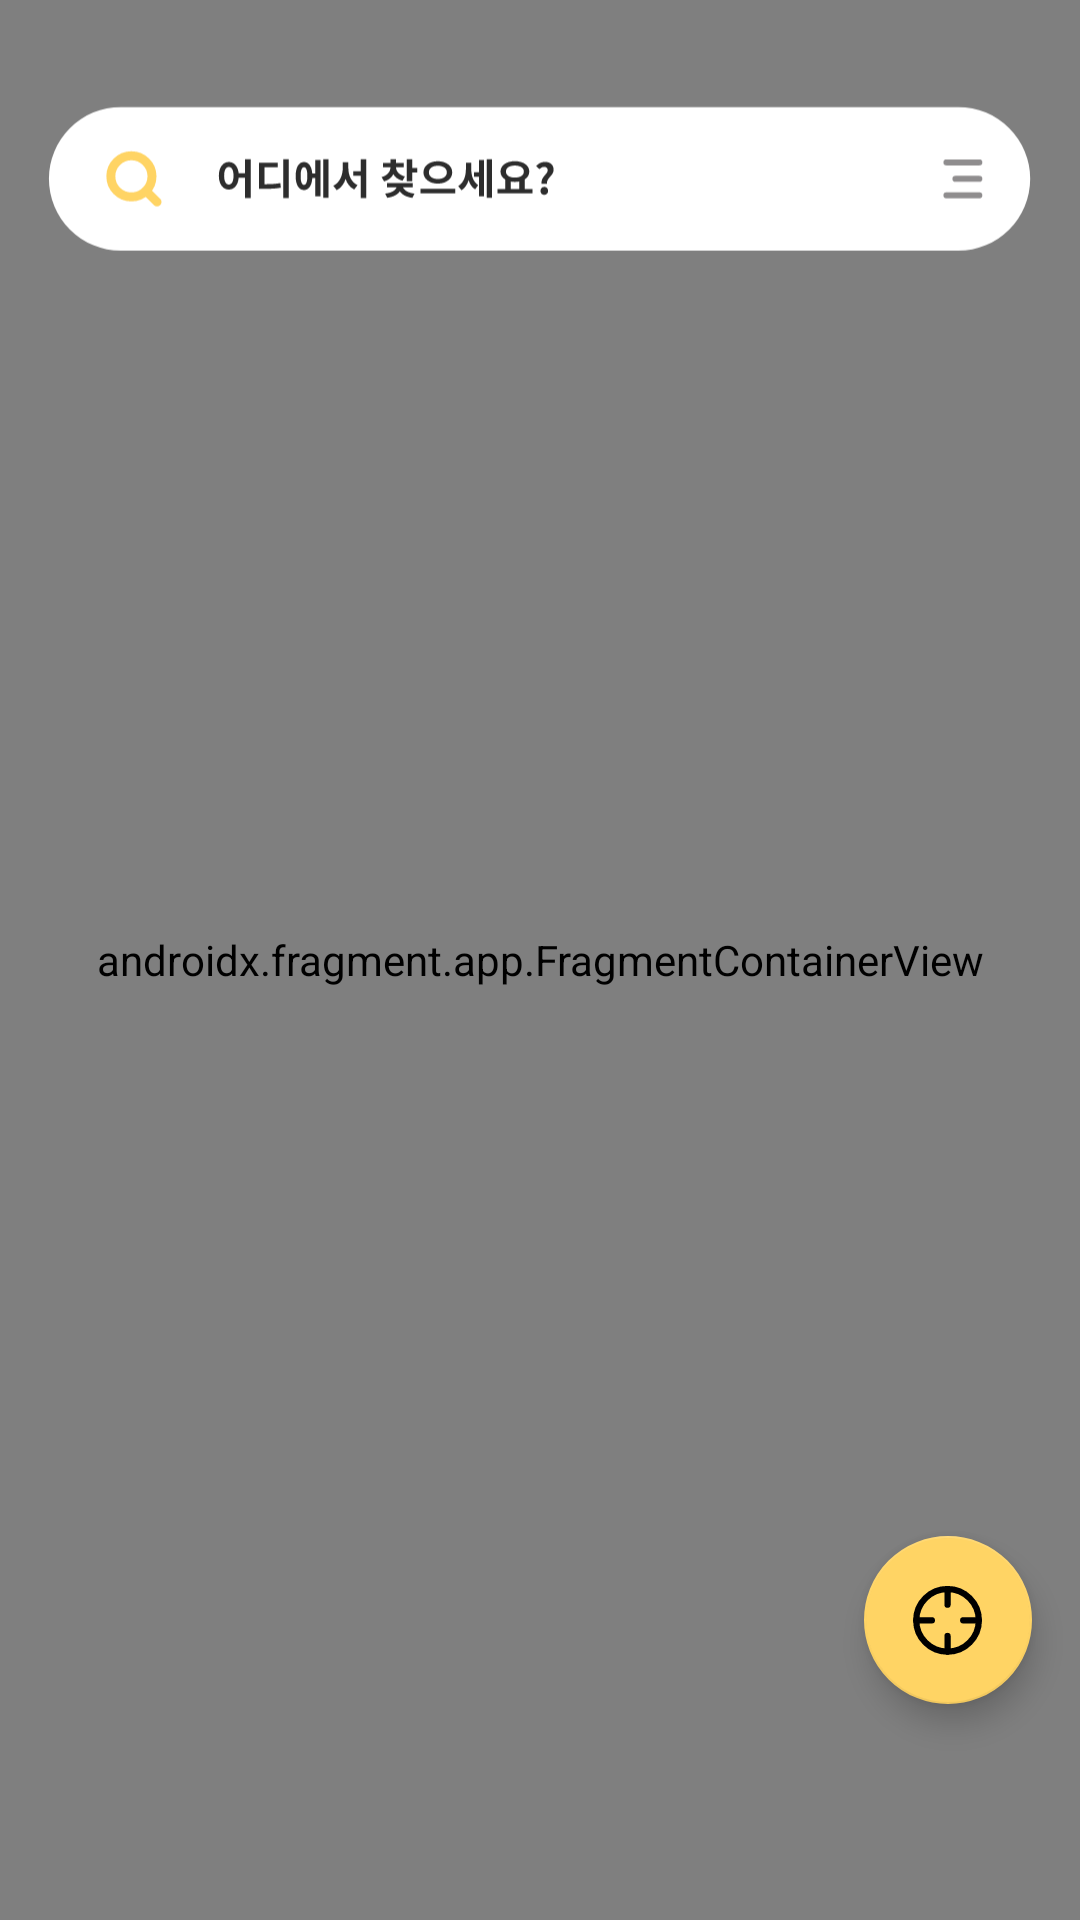

Icon bounding boxes for this 1080×1920 phone screenshot, format [x1=x1, y1=y1, x2=x2, y2=y2]:
추적: [x1=864, y1=1536, x2=1032, y2=1704]
